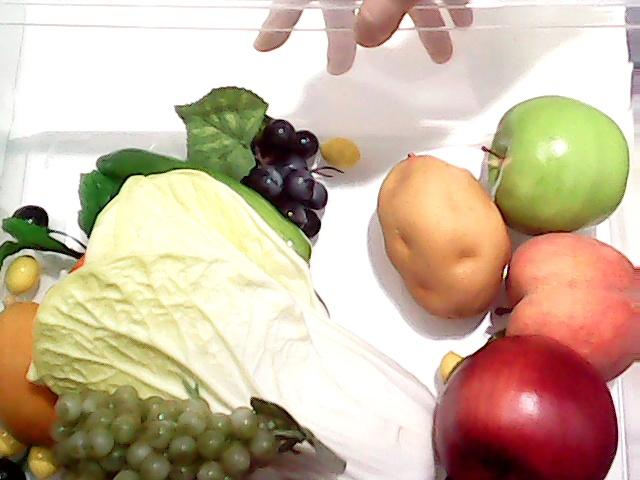apple: (430, 331, 620, 480), (472, 88, 632, 240)
carrot: (0, 201, 86, 275)
grape: (52, 388, 286, 480), (205, 113, 332, 237)
lemon: (2, 298, 66, 446)
napa cabbage: (23, 167, 472, 480)
peach: (496, 233, 640, 389)
pepper: (90, 144, 318, 268)
potato: (375, 150, 513, 322)
